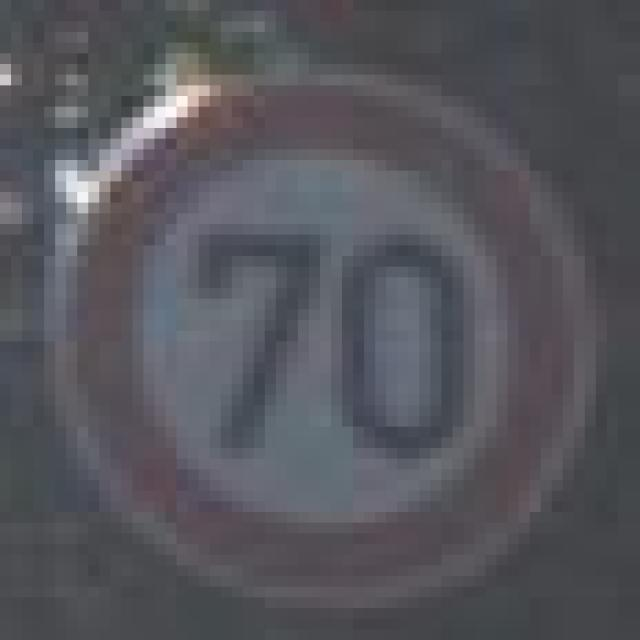Ograniczenie predkosci do 70: (55, 64, 585, 587)
